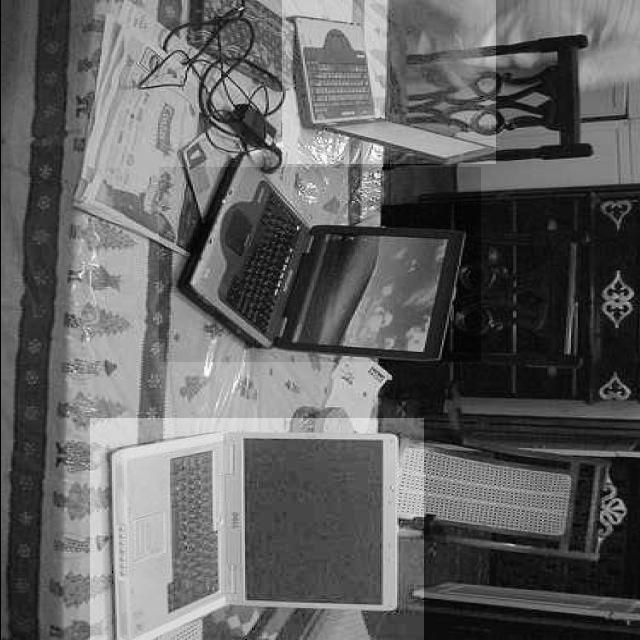-keyboard-: (90, 418, 424, 640), (159, 167, 482, 362), (282, 0, 496, 164)
